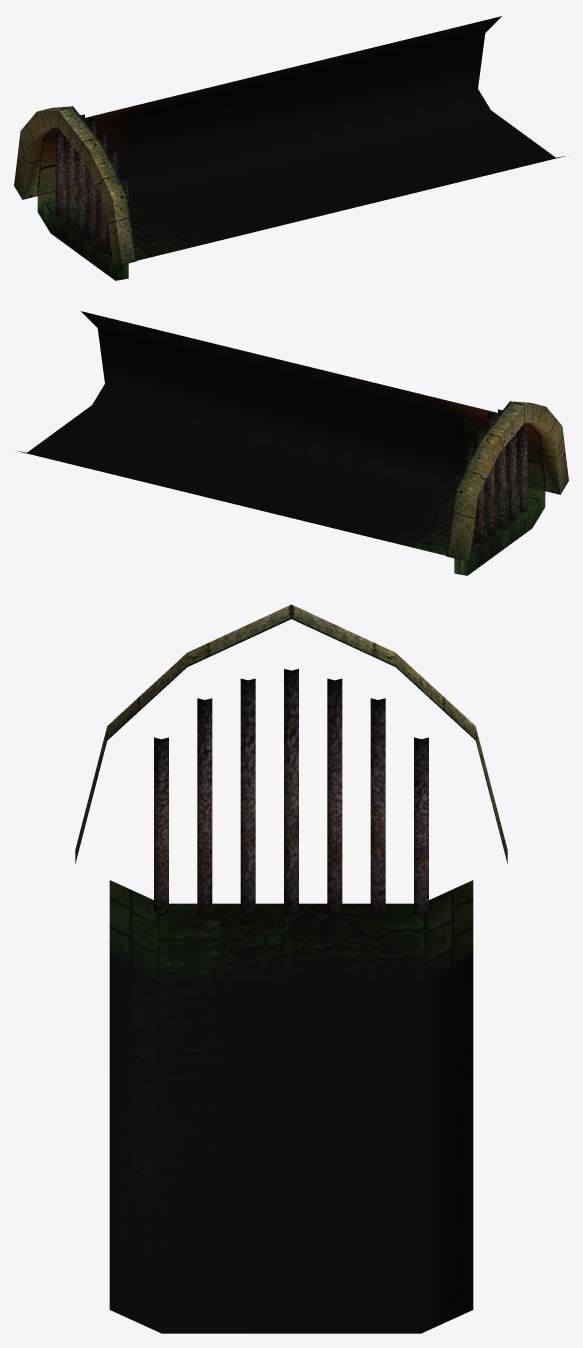
File: Mission12_Sewer02_G.glb
The picture shows the model from 3 angles, top to bottom: view 1: azimuth 30°, elevation 25°; view 2: azimuth 150°, elevation 25°; view 3: azimuth 270°, elevation 25°; orthographic projection. The views are drawn at different scales.
Visible parts, largest first — view 1: MISSION12_SEWER02_G; view 2: MISSION12_SEWER02_G; view 3: MISSION12_SEWER02_G.
Boxes of the visible parts, x1,y1,x2,y2 form: MISSION12_SEWER02_G: [14, 16, 565, 280]; MISSION12_SEWER02_G: [17, 311, 568, 575]; MISSION12_SEWER02_G: [75, 604, 507, 1333].
Size of the model in its own units: 6.2 by 1.95 by 2.49.
Materials: 3 (3 with a texture image).
